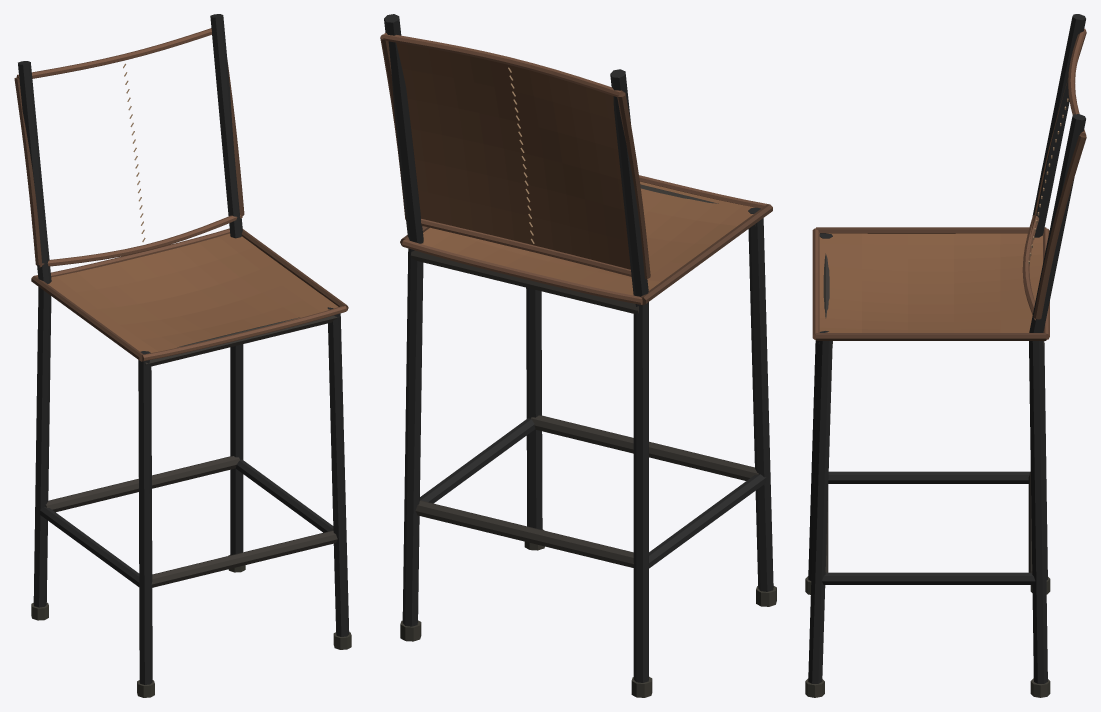
The model's file is chair.glb.
The picture shows the model from 3 angles, left to right: view 1: azimuth 30°, elevation 25°; view 2: azimuth 150°, elevation 25°; view 3: azimuth 270°, elevation 25°; orthographic projection. The views are drawn at different scales.
Visible parts, largest first — view 1: MoboChair; view 2: MoboChair; view 3: MoboChair.
Boxes of the visible parts, x1,y1,x2,y2 form: MoboChair: [14, 14, 351, 697]; MoboChair: [380, 14, 776, 697]; MoboChair: [805, 14, 1086, 697].
Bounding box in the file's own units: 0.5059 × 1.23 × 0.5445.
